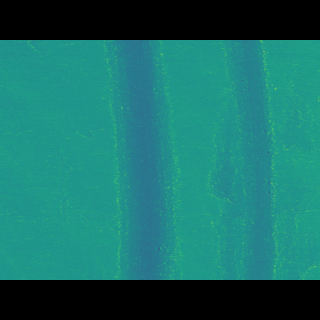Loch: (103, 68, 179, 251), (214, 68, 278, 250)
